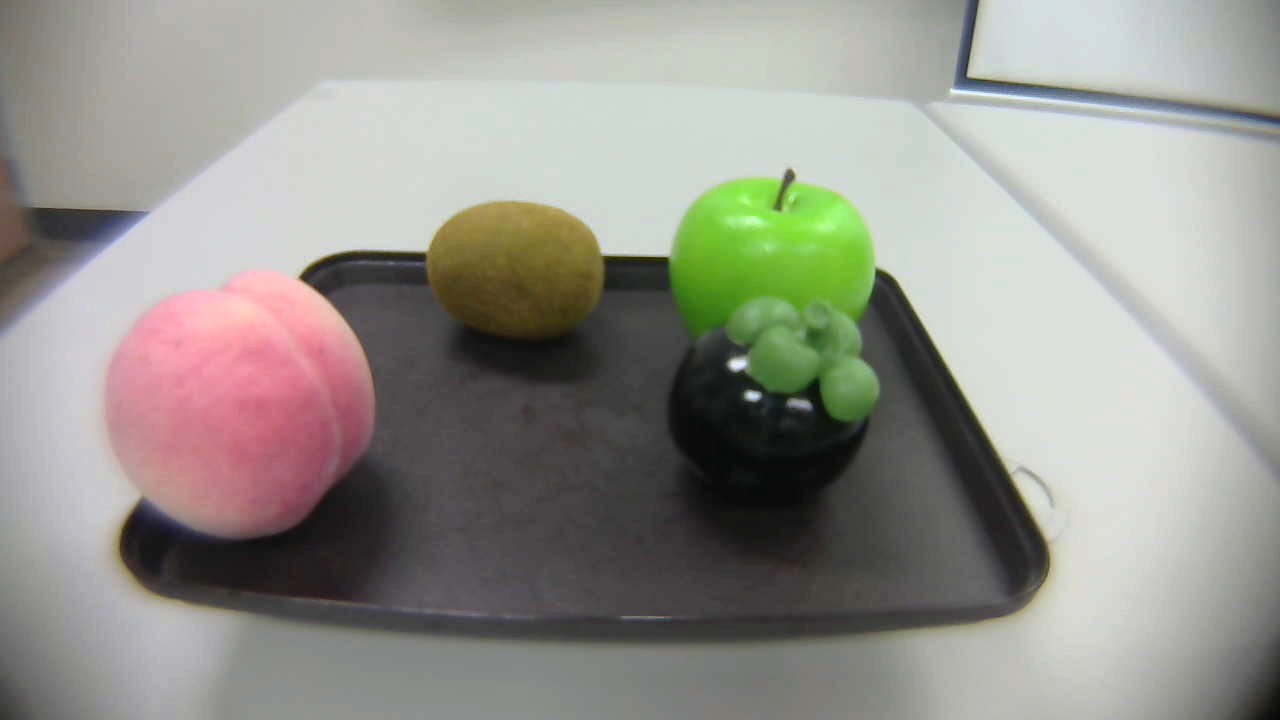green apple: (658, 161, 903, 376)
kiwi fruit: (406, 191, 617, 358)
mangosteen: (663, 299, 876, 506)
peach: (93, 259, 378, 553)
